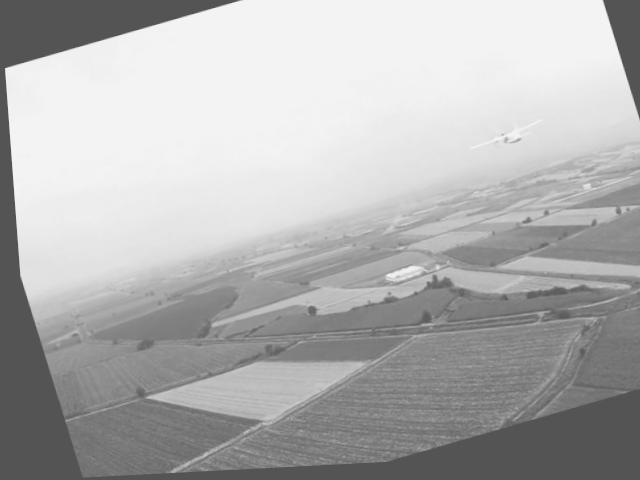hedef: (351, 0, 595, 35), (447, 111, 558, 183)
